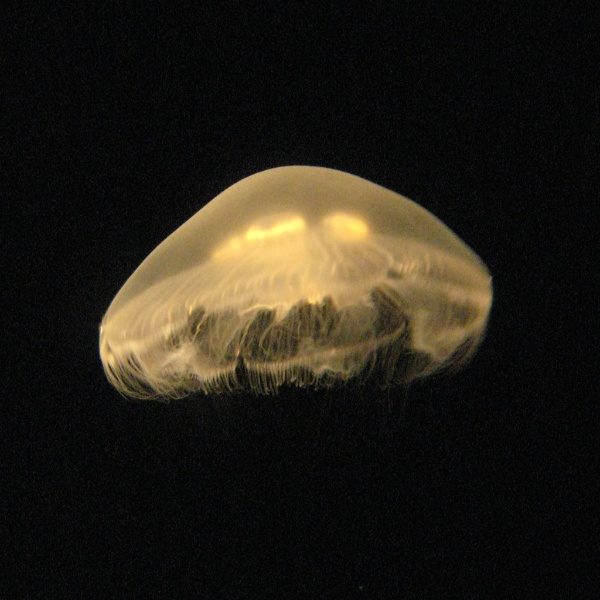Jellyfish: (94, 164, 496, 402)
